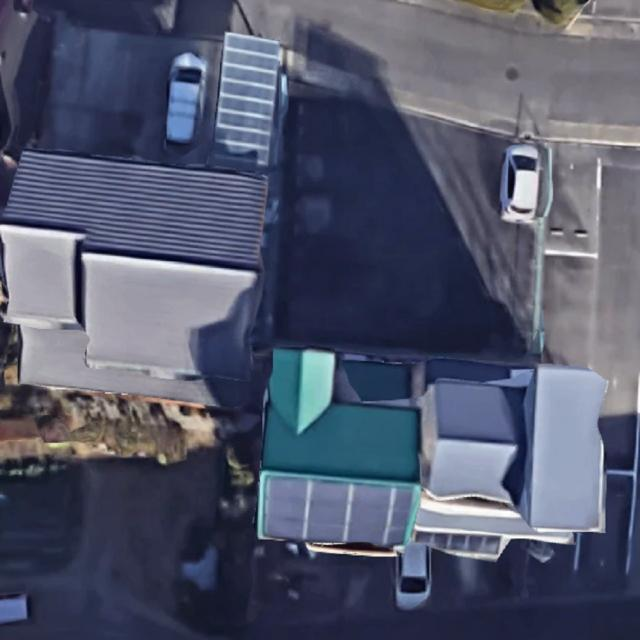Batiment: (0, 150, 268, 405), (259, 348, 421, 547), (420, 364, 608, 531)
